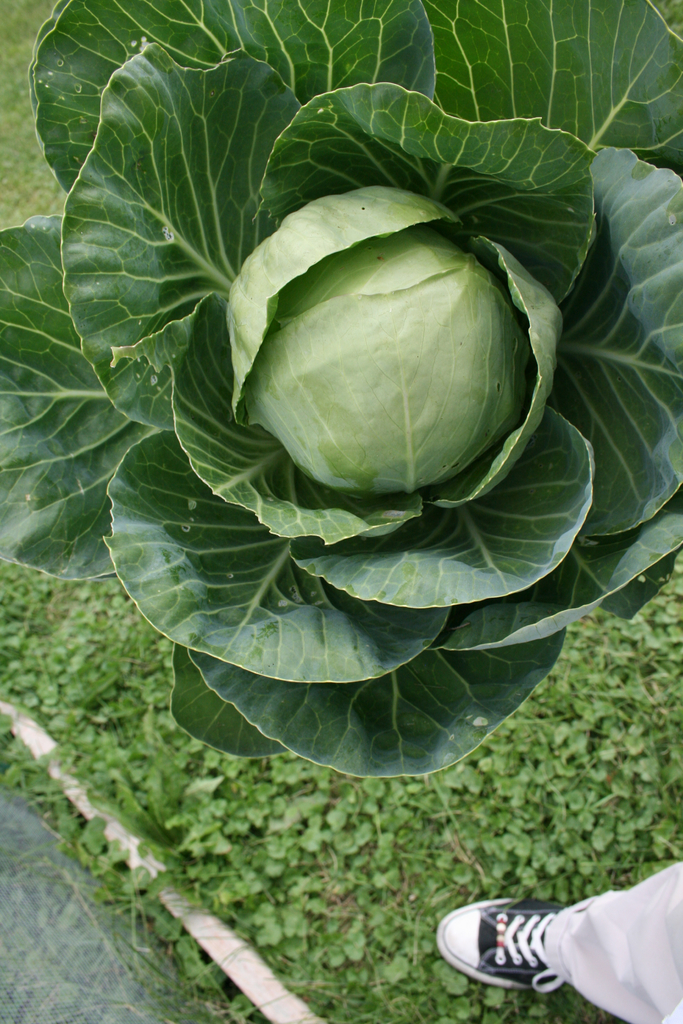Cabbage: (0, 0, 682, 777)
